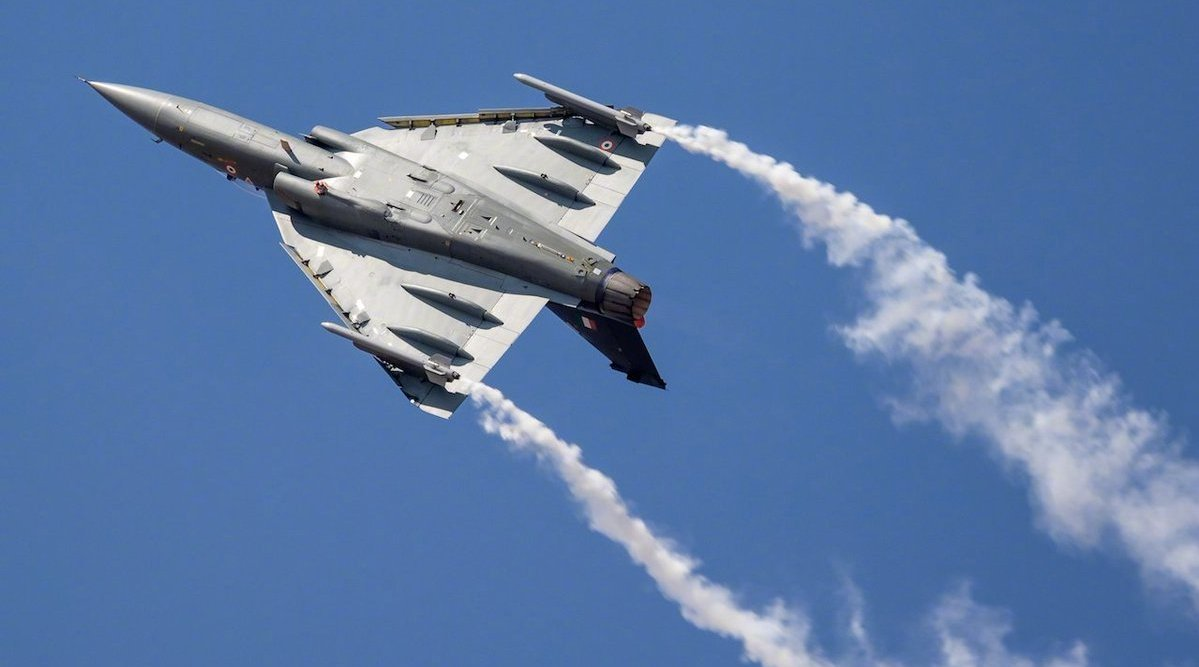airplane: (77, 64, 708, 408)
